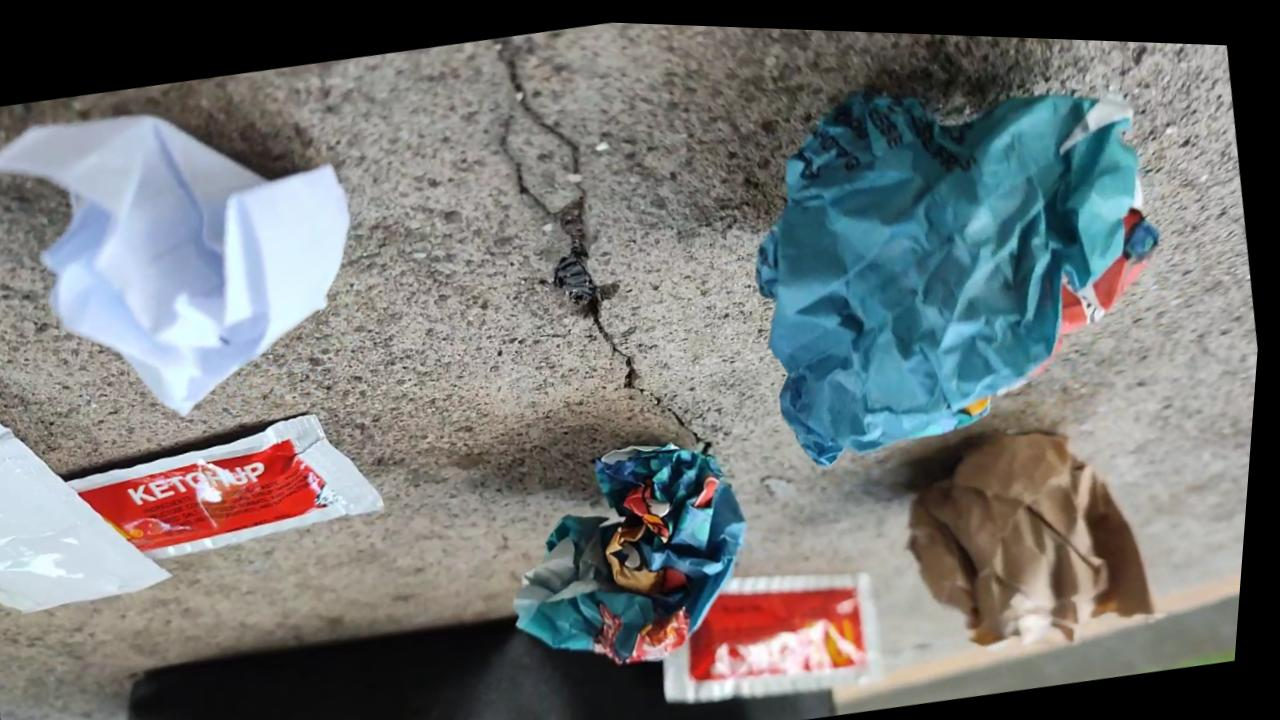paper: (696, 30, 1200, 490), (0, 55, 414, 471), (867, 399, 1204, 680), (481, 416, 767, 694)
